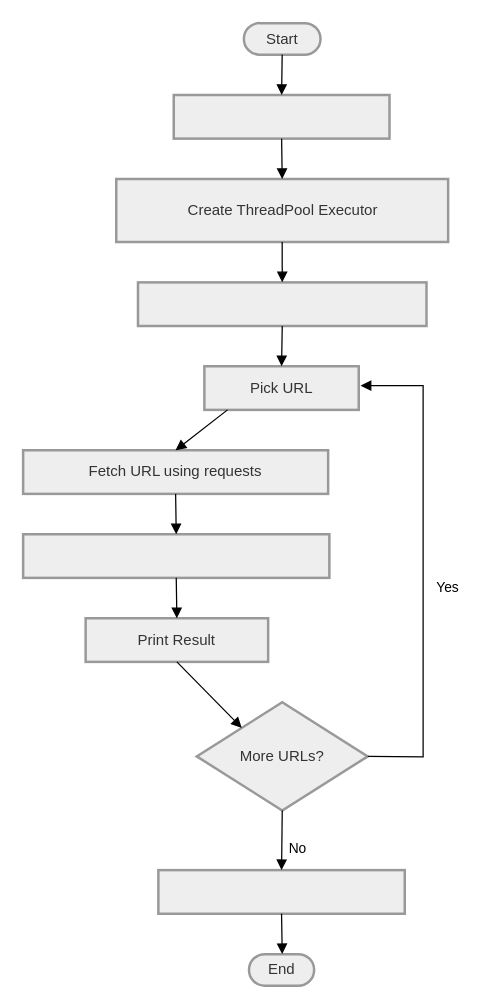
The diagram is 483 pixels wide and 1008 high, and some of its shapes have lost their labels. Here are the shapes that lost their labels. From the top down, the centre of each, then its label:
the point at 281,116: Define URL List
the point at 281,303: Assign Tasks to Threads
the point at 175,555: Get Status Code and Size
the point at 280,891: All URLs Processed
